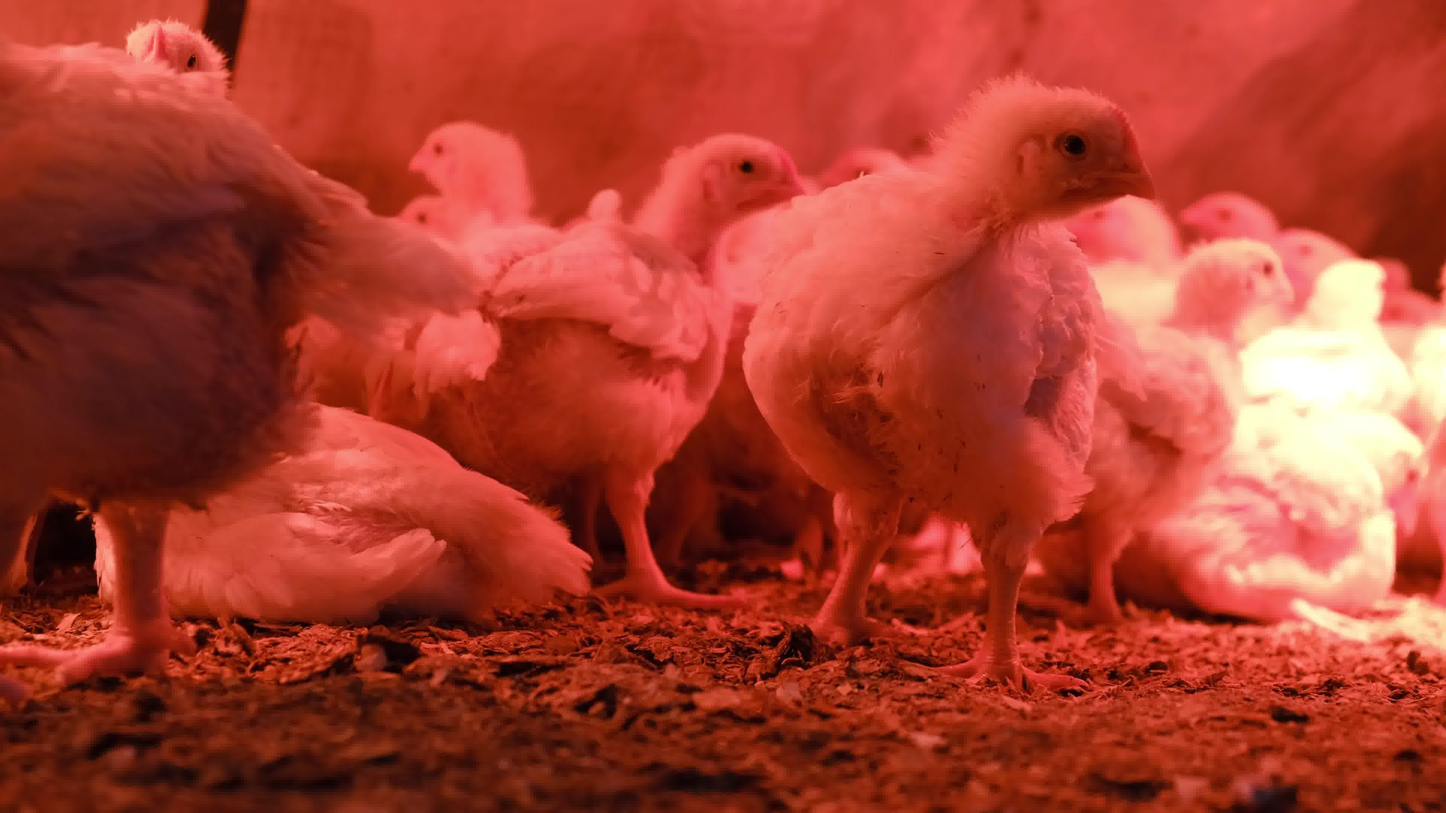AbNormal: (88, 392, 599, 625), (1111, 411, 1442, 628)
Normal: (0, 38, 474, 684), (745, 76, 1164, 687), (379, 128, 816, 610), (983, 238, 1300, 640), (1245, 258, 1399, 405), (405, 115, 539, 246), (127, 17, 231, 104), (388, 192, 478, 262)
